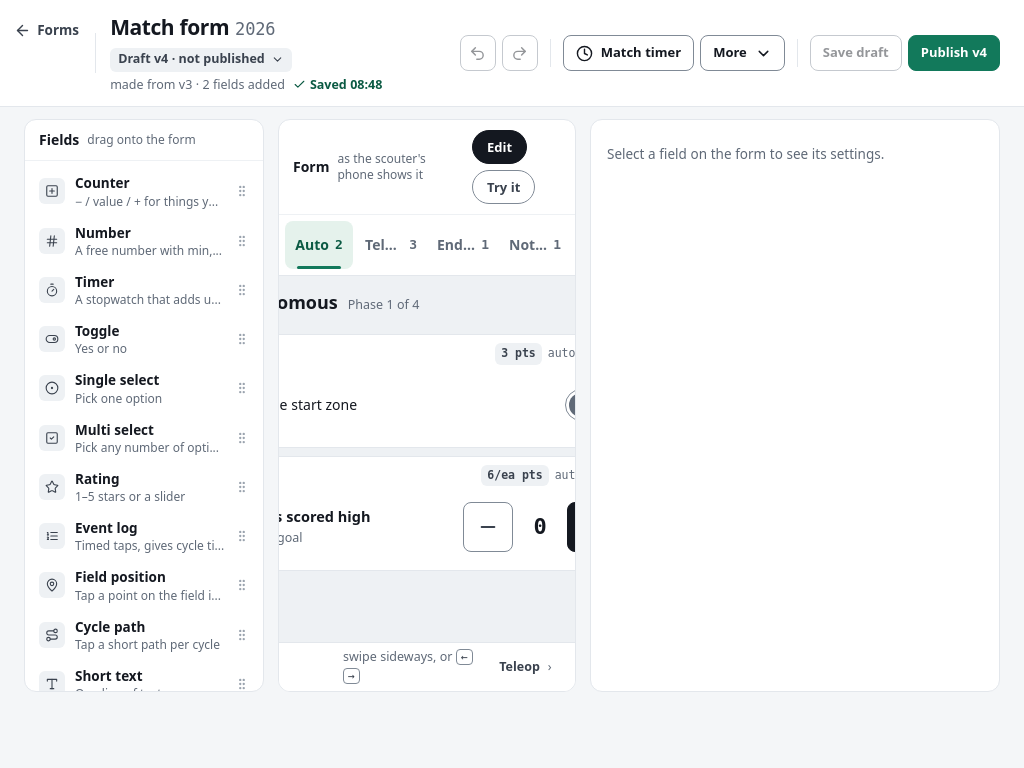
Scenario: BuilderPage: the three panes (task 1.29) › clicking a canvas item selects it in the settings pane
The width and height of the screenshot is (1024, 768).
Expected: the element "Form" is shown, [278,119,576,692]
Step 1. Click the button named "Pieces scored high, Counter" → (427, 513), box [223,456,631,570]
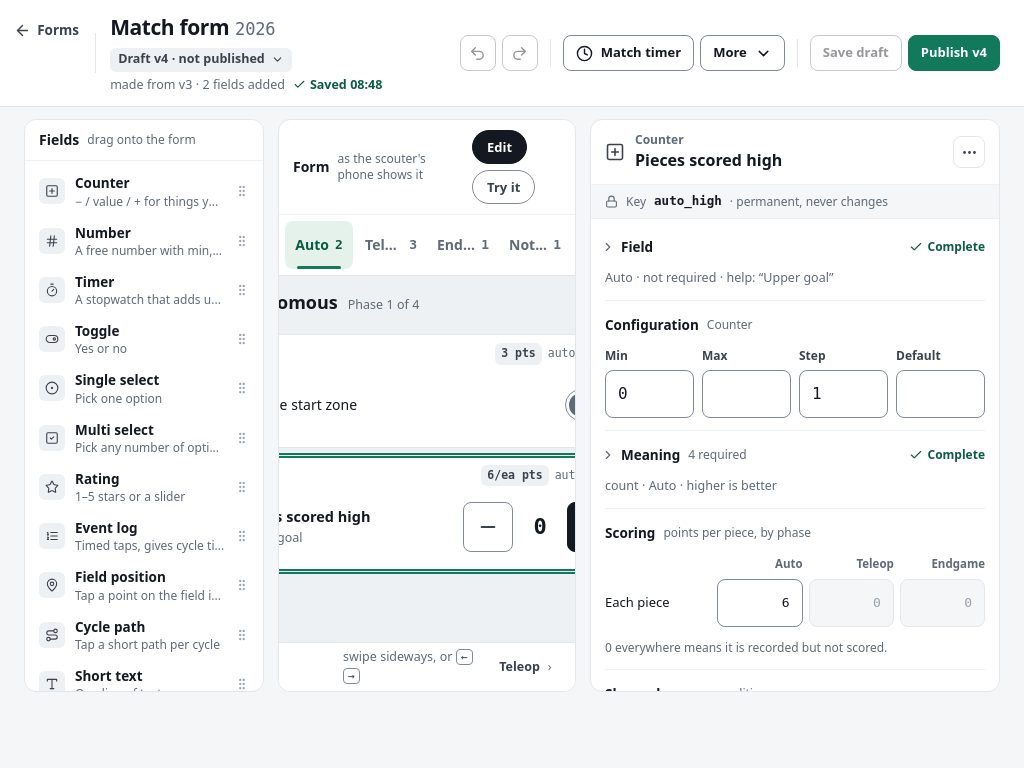
Result: the heading "Pieces scored high" is shown at [635,148,782,172]
Result: the text "auto_high" next to "Key" is shown at [654,193,722,208]
Result: the text "· permanent, never changes" is shown at [730,194,888,210]
